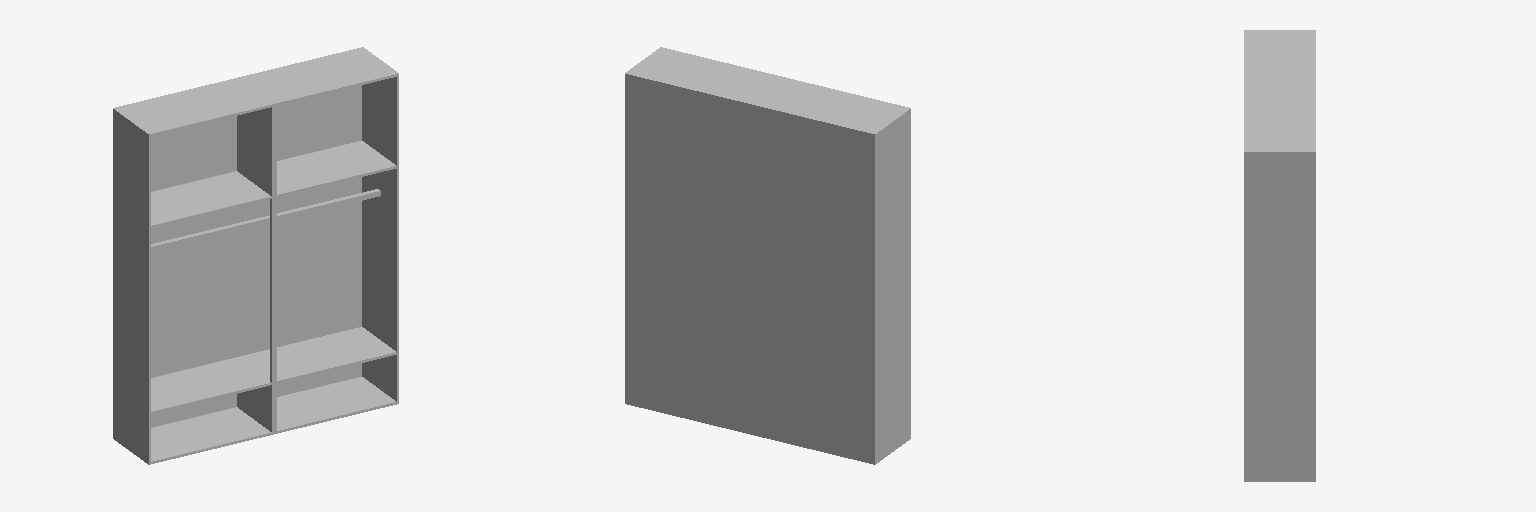
The model's file is Sehlf-0.obj.
3 renders of one model, left to right at view 1: azimuth 30°, elevation 25°; view 2: azimuth 150°, elevation 25°; view 3: azimuth 270°, elevation 25°, orthographic.
Parts seen in each view (by area): view 1: Sehlf-0; view 2: Sehlf-0; view 3: Sehlf-0.
Part boxes in pixels (left/top/right/bottom): Sehlf-0: left=113, top=47, right=398, bottom=464; Sehlf-0: left=625, top=47, right=910, bottom=464; Sehlf-0: left=1244, top=30, right=1315, bottom=481.
Size of the model in its own units: 100 by 126 by 25.